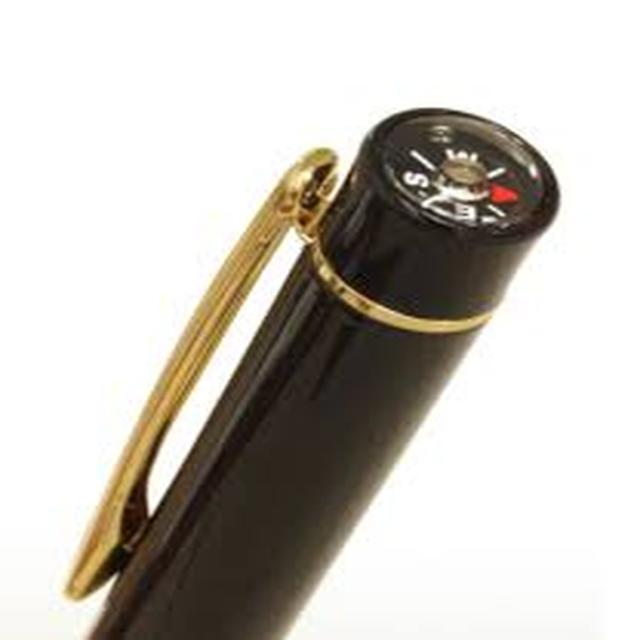pen: (58, 46, 567, 640)
